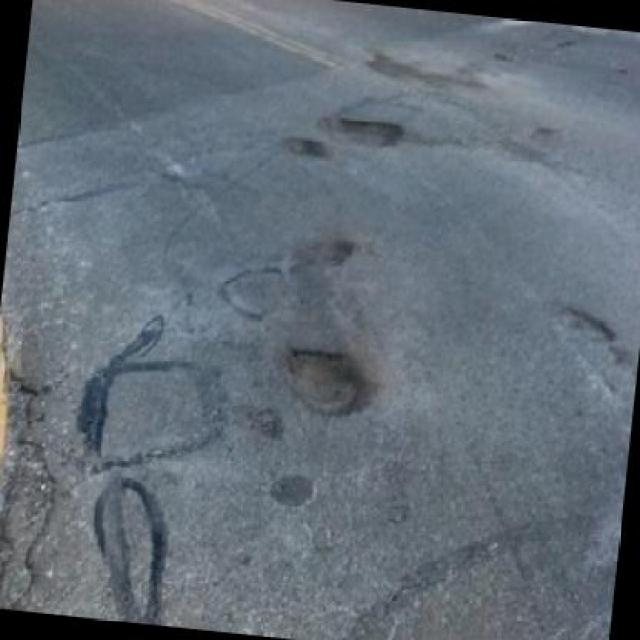pothole1: (0, 372, 69, 612), (272, 339, 374, 419), (316, 105, 406, 150), (552, 300, 618, 351), (283, 130, 331, 162)
